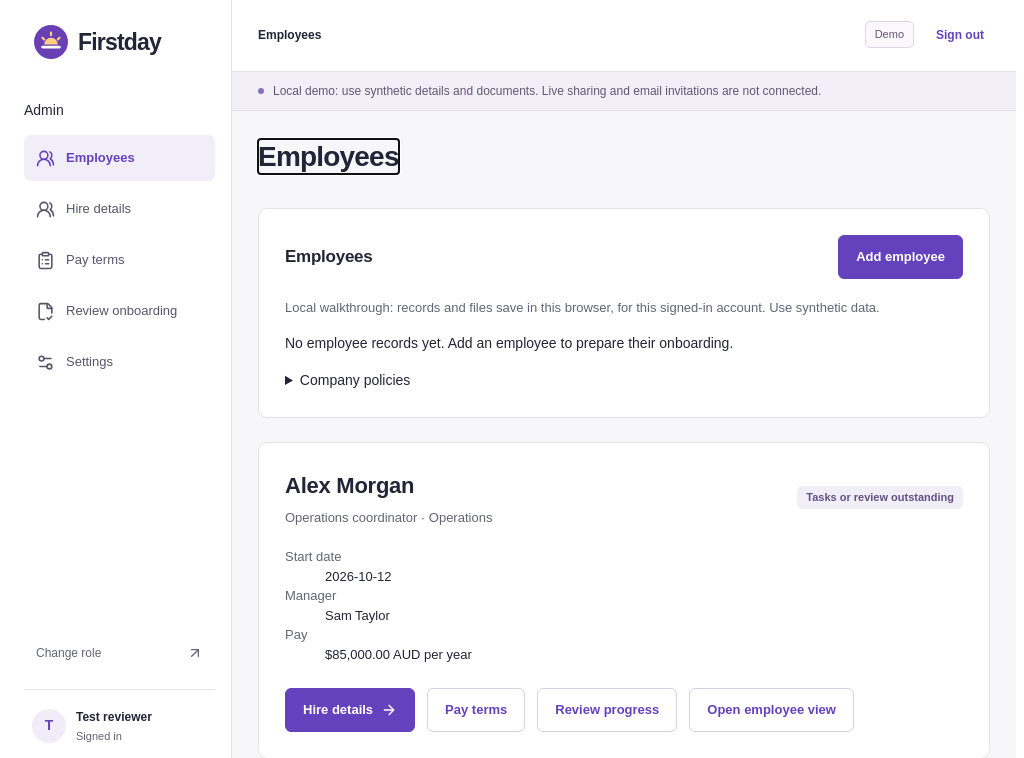
Admin local preparation and review › gates local completion on all employee prerequisites and explicit review
Click the button "Review onboarding".
click(120, 311)  # box [24,288,215,334]
(page scrolled)
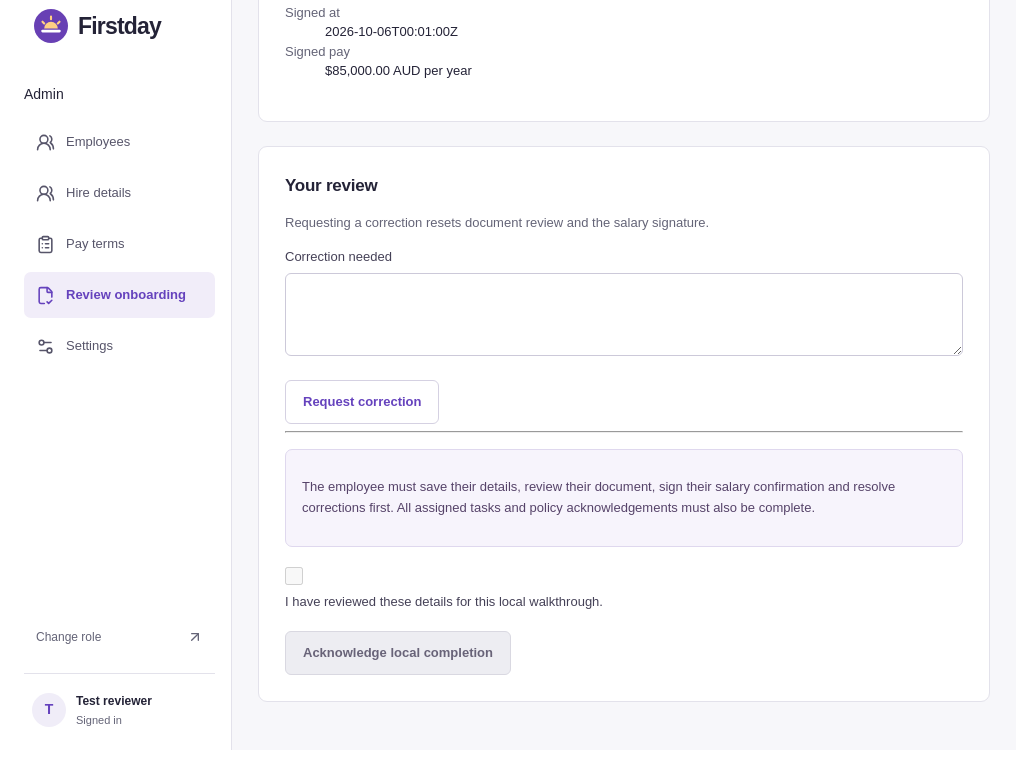
Result: the button "Acknowledge local completion" is disabled at [285,630,511,674]
Result: the checkbox labelled "I have reviewed these details for this local walkthrough." is disabled at [285,567,303,585]
